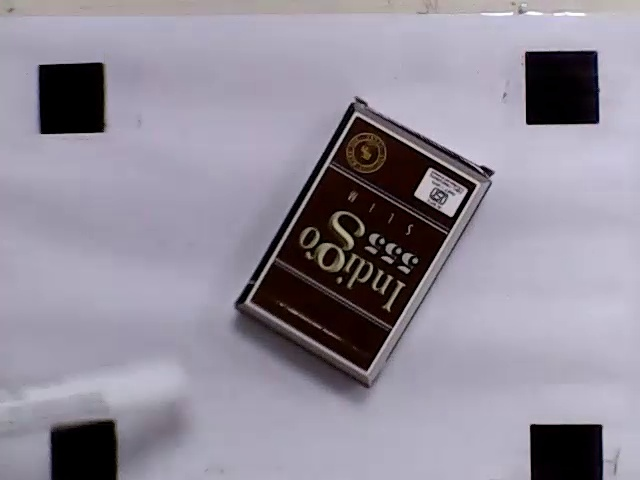BEX: (244, 114, 479, 374)
